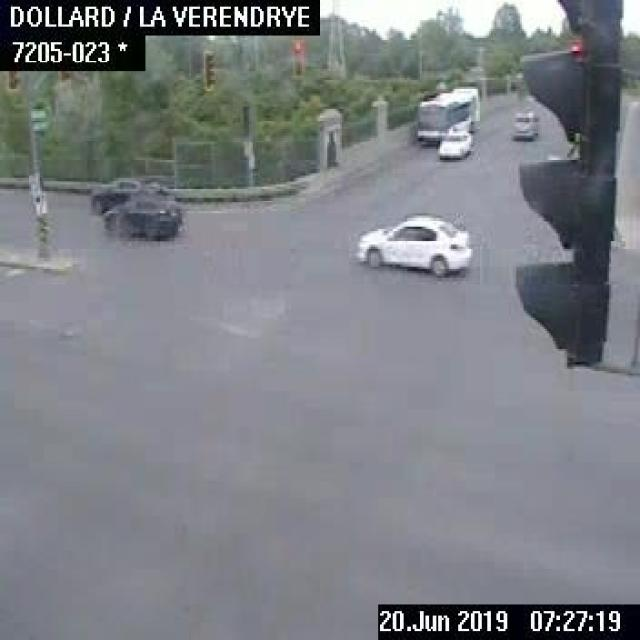bus: (411, 82, 479, 143)
vehicle: (352, 211, 472, 276), (104, 190, 184, 238), (89, 174, 145, 214), (437, 126, 475, 160), (509, 104, 539, 140)
